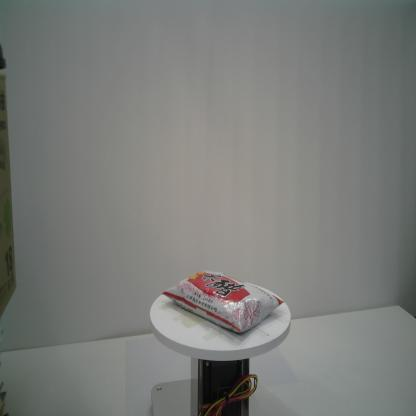Seasoner: (162, 269, 284, 334)
